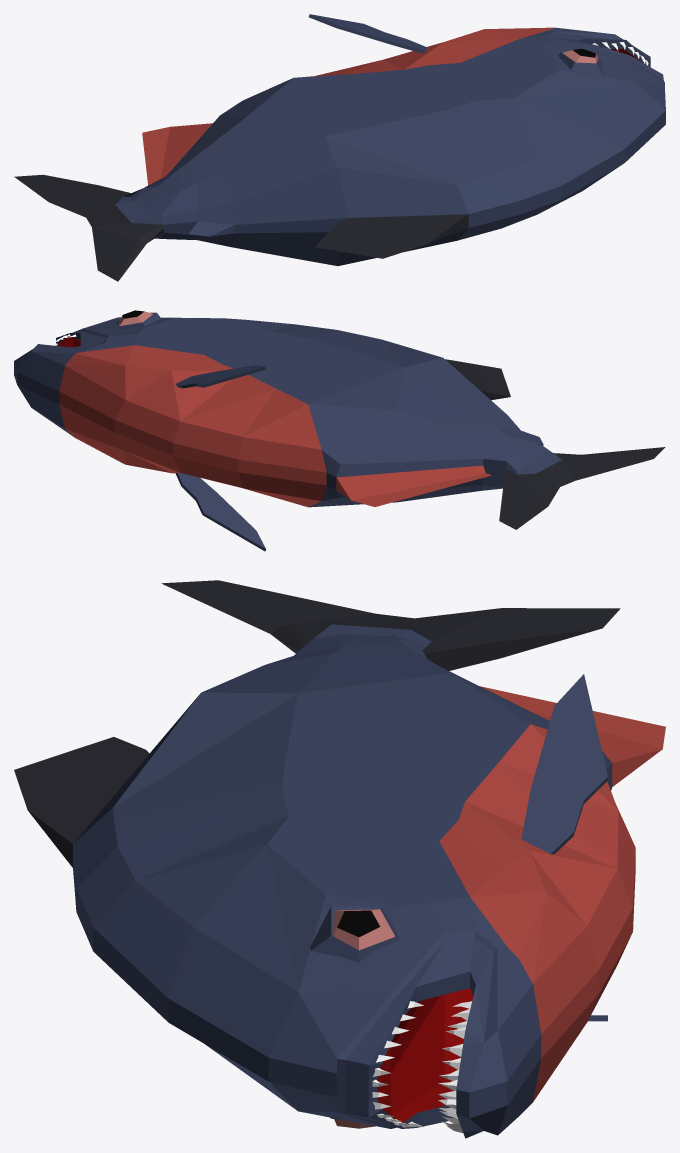
Rendered from Piranha.obj.
3 renders of one model, top to bottom at view 1: azimuth 30°, elevation 25°; view 2: azimuth 150°, elevation 25°; view 3: azimuth 270°, elevation 25°, orthographic. The views are drawn at different scales.
Visible parts, largest first — view 1: Piranha_0; view 2: Piranha_0; view 3: Piranha_0.
Part boxes in pixels (x1,y1,x2,y2): Piranha_0: (14, 14, 665, 281); Piranha_0: (14, 310, 665, 551); Piranha_0: (14, 580, 665, 1138).
Bounding box in the file's own units: 0.5986 × 0.1846 × 0.314.
1 material, 1 textured.
